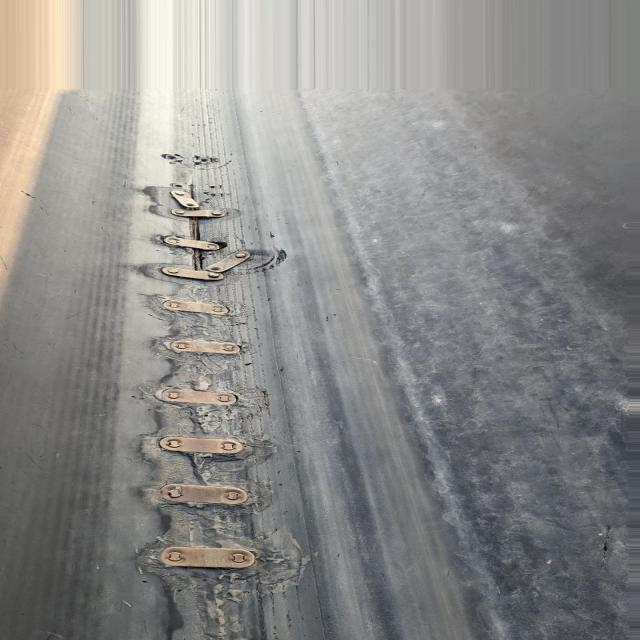patch work: (129, 147, 316, 592)
